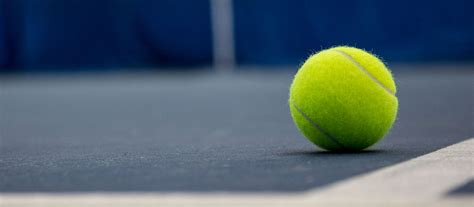tennis_ball: (287, 44, 400, 154)
